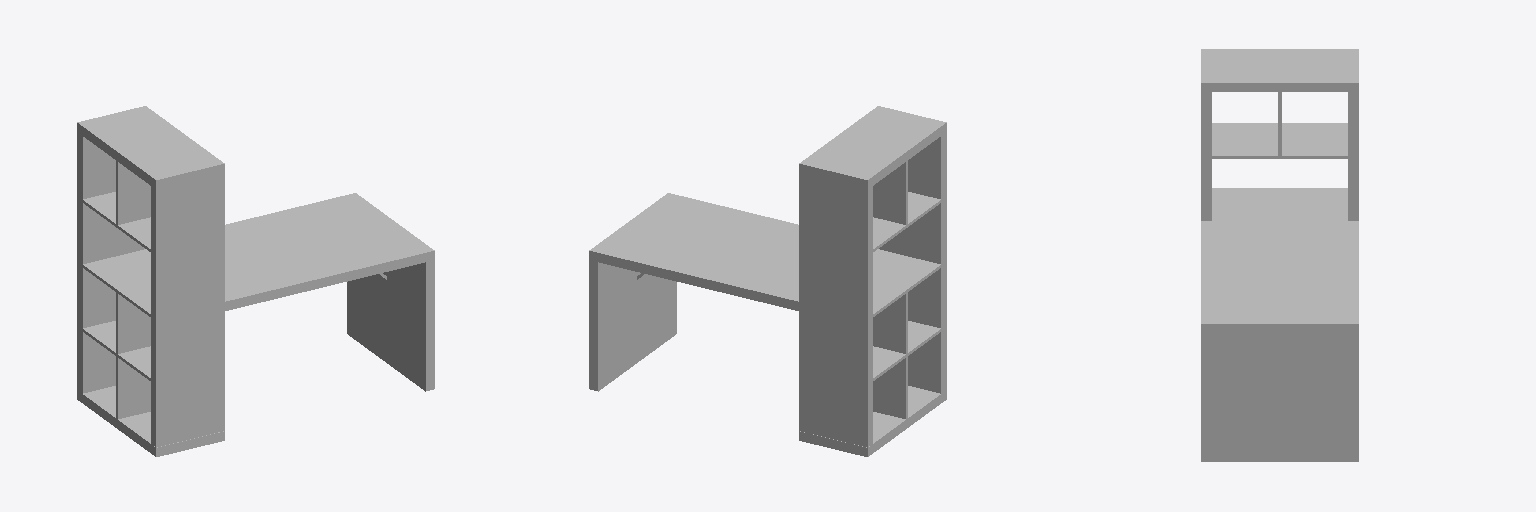
The model's file is office_desk.obj.
3 renders of one model, left to right at view 1: azimuth 30°, elevation 25°; view 2: azimuth 150°, elevation 25°; view 3: azimuth 270°, elevation 25°, orthographic.
Visible parts, largest first — view 1: table_low; view 2: table_low; view 3: table_low.
Part boxes in pixels (left/top/right/bottom): table_low: left=77, top=106, right=434, bottom=456; table_low: left=589, top=106, right=946, bottom=456; table_low: left=1201, top=49, right=1358, bottom=461.
Size of the model in its own units: 66.92 by 63.63 by 32.9.